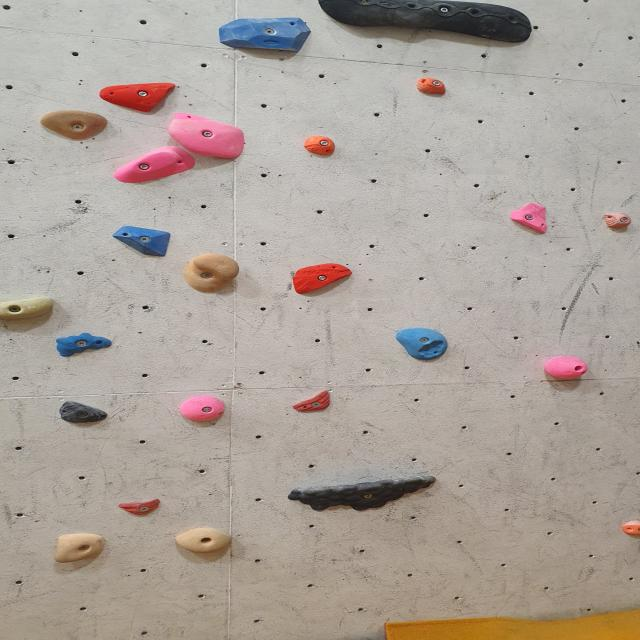Crimp: (215, 18, 311, 53), (118, 147, 190, 186), (106, 83, 179, 113), (295, 263, 349, 294), (510, 203, 557, 232), (64, 400, 115, 422), (122, 498, 170, 514), (298, 392, 333, 413)
Jug: (288, 476, 433, 512), (164, 112, 249, 160), (40, 109, 114, 142), (188, 254, 242, 291), (171, 527, 230, 555), (56, 532, 102, 562)
Pinch: (0, 296, 72, 323), (544, 354, 591, 382), (179, 396, 220, 422), (299, 134, 339, 156), (417, 76, 452, 97), (602, 211, 632, 230), (619, 519, 640, 538)
Sloper: (317, 0, 533, 46), (394, 326, 451, 360), (119, 225, 170, 257), (59, 332, 110, 354)
